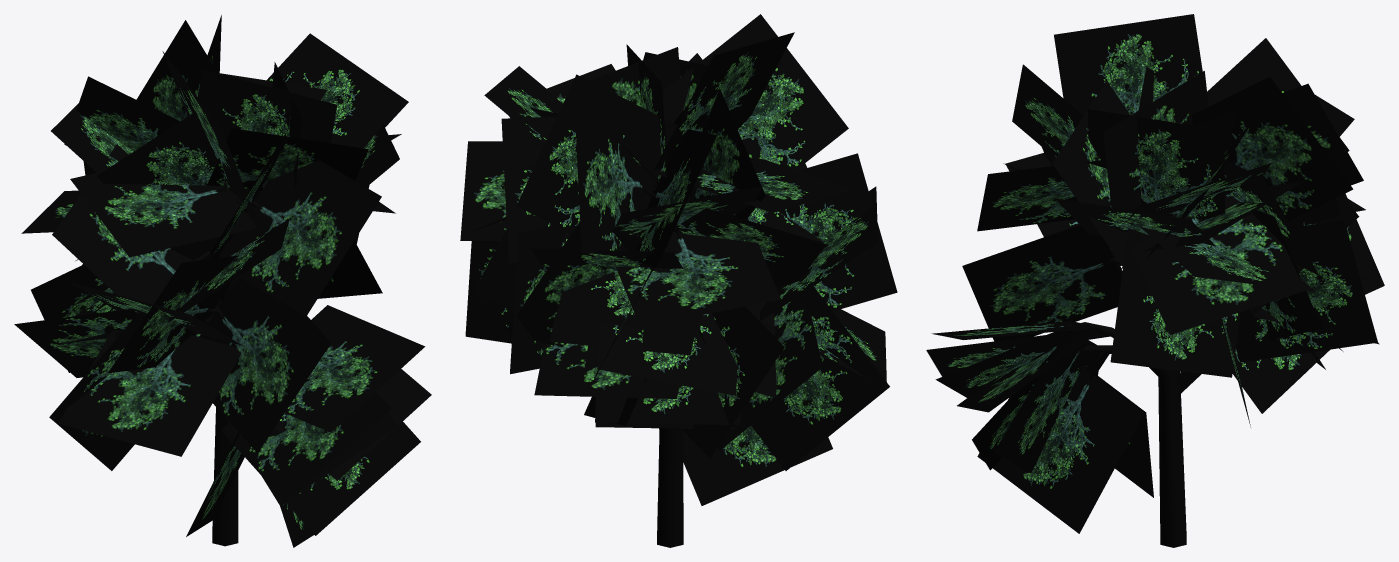
The model's file is tree77.glb.
3 renders of one model, left to right at view 1: azimuth 30°, elevation 25°; view 2: azimuth 150°, elevation 25°; view 3: azimuth 270°, elevation 25°, orthographic. The views are drawn at different scales.
Size of the model in its own units: 5.6 by 6.92 by 5.74.
Materials: 2 (1 with a texture image).
